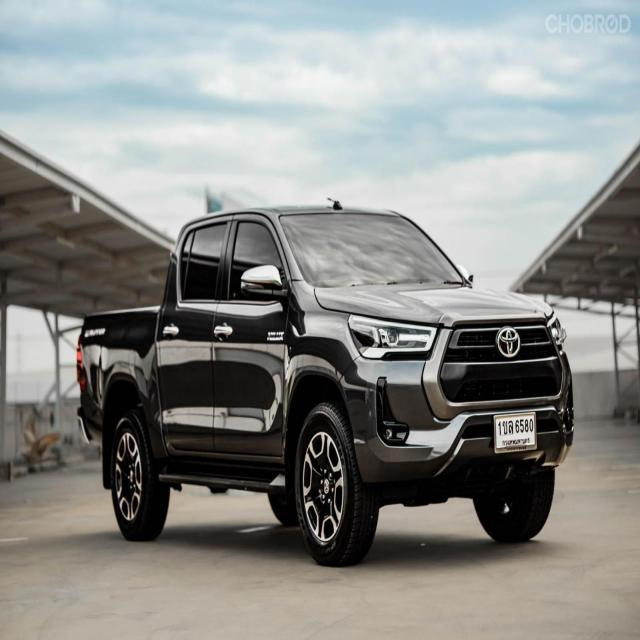license_plate: (488, 409, 541, 459)
